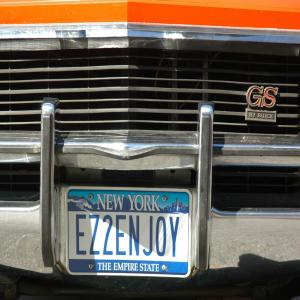Vehicle-registration-plate: (60, 181, 199, 286)
